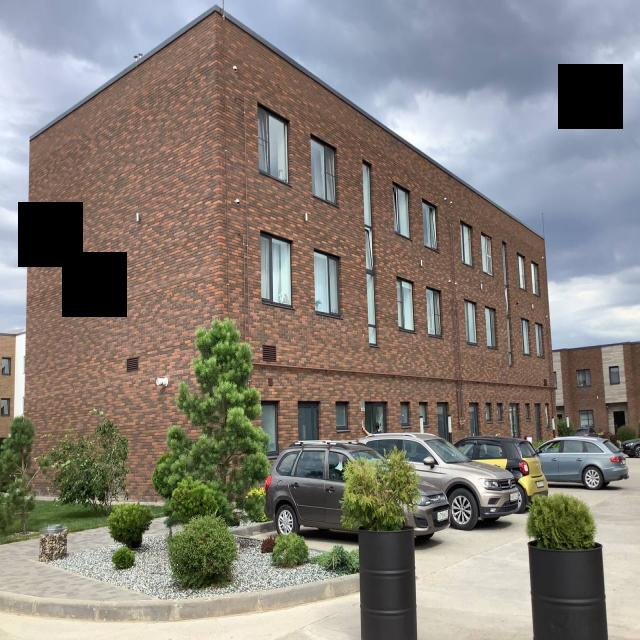Building: (26, 5, 559, 500)
